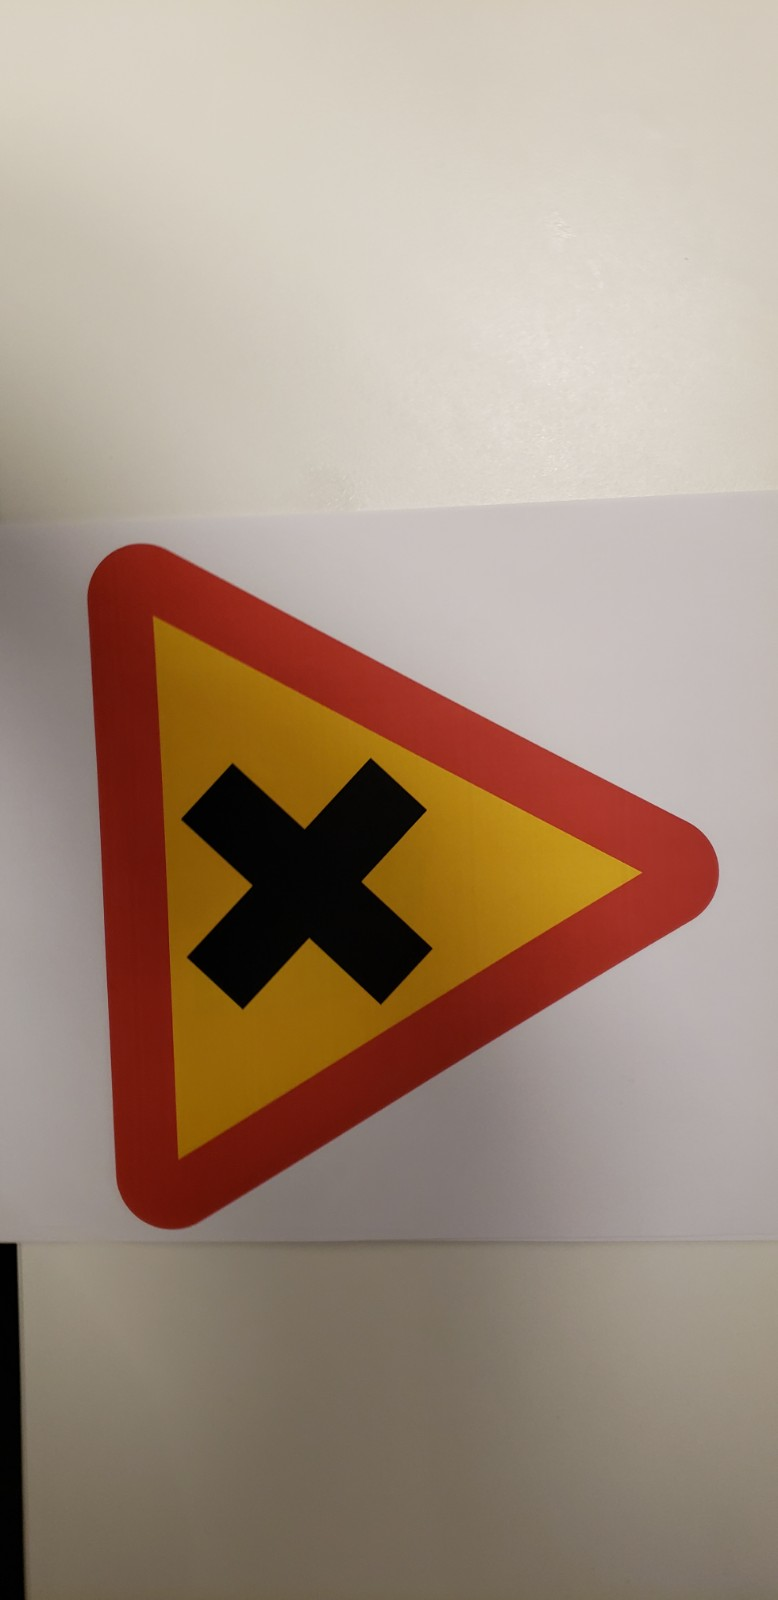junction: (16, 461, 778, 1412)
